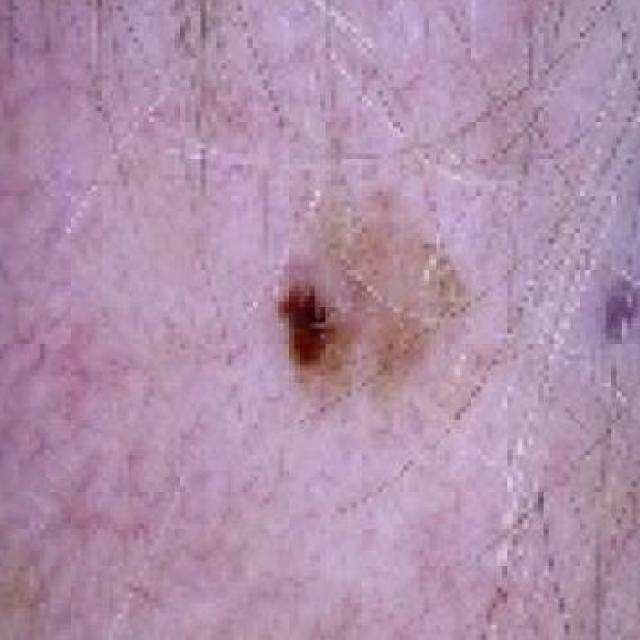MEL: (224, 130, 489, 450)
